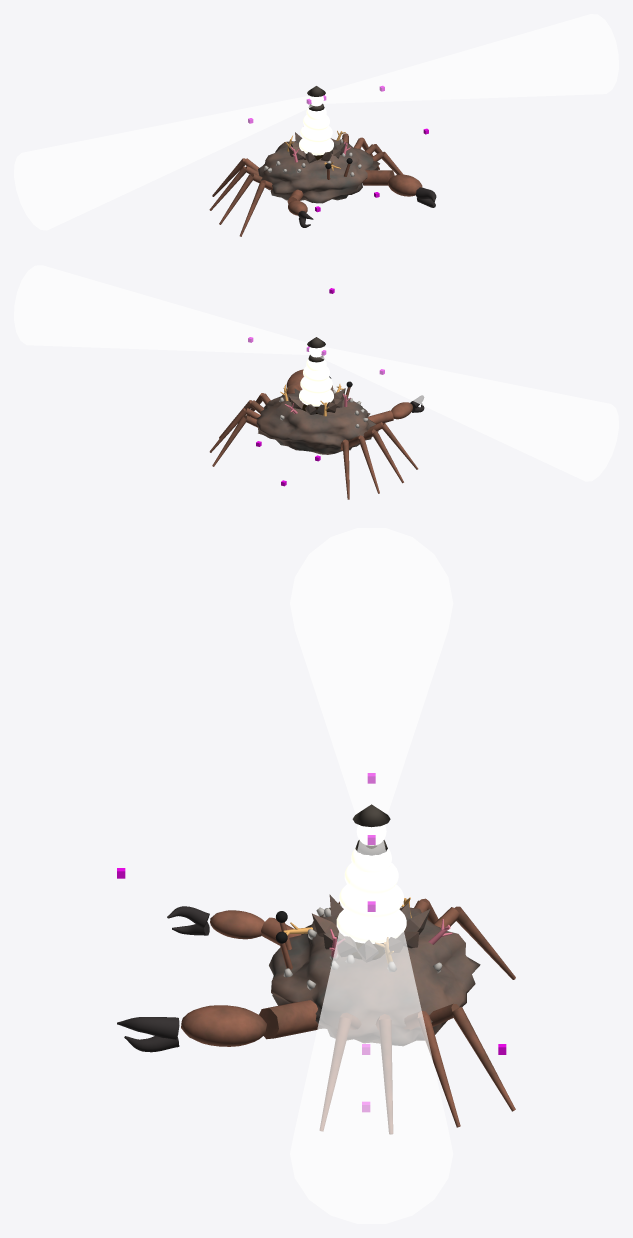
File: 03_granchio_faro.glb
3 renders of one model, top to bottom at view 1: azimuth 30°, elevation 25°; view 2: azimuth 150°, elevation 25°; view 3: azimuth 270°, elevation 25°, orthographic. The views are drawn at different scales.
Parts seen in each view (by area): view 1: Granchio__Fascio__Faro, Granchio__Corazza_Roccia, Granchio__Zampe, Granchio__Bulbo_Vetro, Granchio__Punte_Chele; view 2: Granchio__Fascio__Faro, Granchio__Corazza_Roccia, Granchio__Zampe, Granchio__Bulbo_Vetro; view 3: Granchio__Fascio__Faro, Granchio__Corazza_Roccia, Granchio__Zampe, Granchio__Bulbo_Vetro, Granchio__Punte_Chele, Granchio__Lanterna.
Boxes of the visible parts, x1=… form: Granchio__Fascio__Faro: x1=14, y1=14, x2=618, y2=230; Granchio__Corazza_Roccia: x1=258, y1=132, x2=379, y2=203; Granchio__Zampe: x1=209, y1=133, x2=422, y2=236; Granchio__Bulbo_Vetro: x1=299, y1=108, x2=333, y2=155; Granchio__Punte_Chele: x1=298, y1=187, x2=436, y2=227; Granchio__Fascio__Faro: x1=14, y1=265, x2=618, y2=481; Granchio__Corazza_Roccia: x1=255, y1=385, x2=378, y2=454; Granchio__Zampe: x1=209, y1=369, x2=418, y2=499; Granchio__Bulbo_Vetro: x1=299, y1=358, x2=333, y2=406; Granchio__Fascio__Faro: x1=290, y1=528, x2=453, y2=1223; Granchio__Corazza_Roccia: x1=269, y1=894, x2=480, y2=1045; Granchio__Zampe: x1=181, y1=898, x2=515, y2=1134; Granchio__Bulbo_Vetro: x1=336, y1=848, x2=406, y2=943; Granchio__Punte_Chele: x1=117, y1=906, x2=209, y2=1052; Granchio__Lanterna: x1=352, y1=804, x2=390, y2=855.
Bounding box in the file's own units: 14.5 × 3.02 × 4.4.
Materials: 13 (2 with a texture image).
